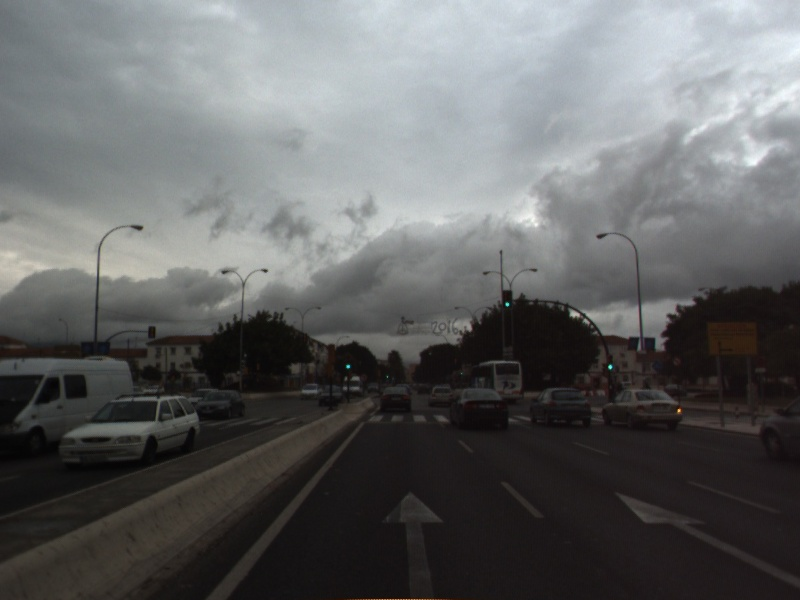STRAIGHT: (612, 490, 800, 588), (378, 488, 447, 600)
